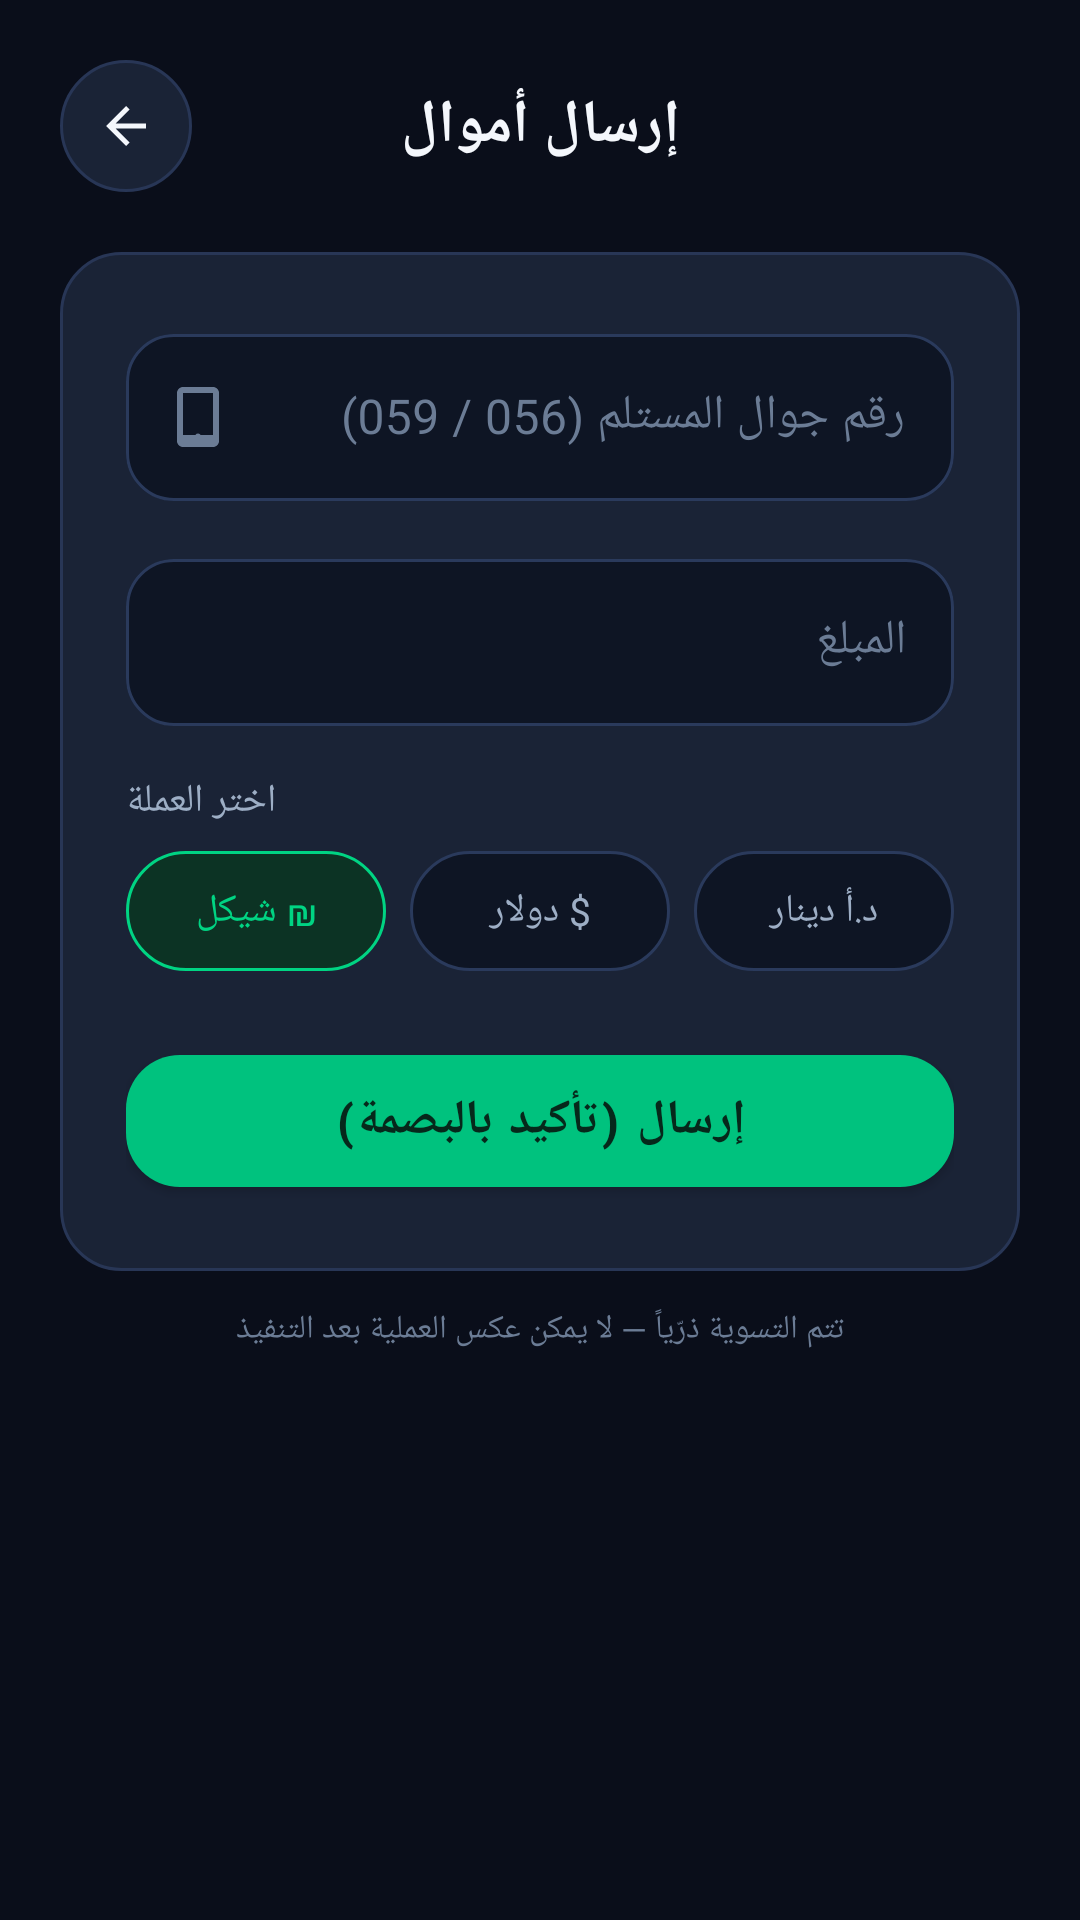

Where to tap for icons on this 1080*1920 app screen, as (x=x, y=y):
رجوع: (x=126, y=126)
